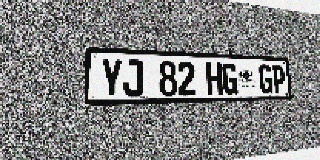2: (177, 61, 195, 96)
8: (159, 61, 178, 96)
G: (222, 63, 238, 95), (259, 64, 273, 94)
H: (206, 62, 223, 95)
J: (123, 59, 144, 97)
P: (272, 65, 285, 94)
Y: (100, 58, 122, 97)
